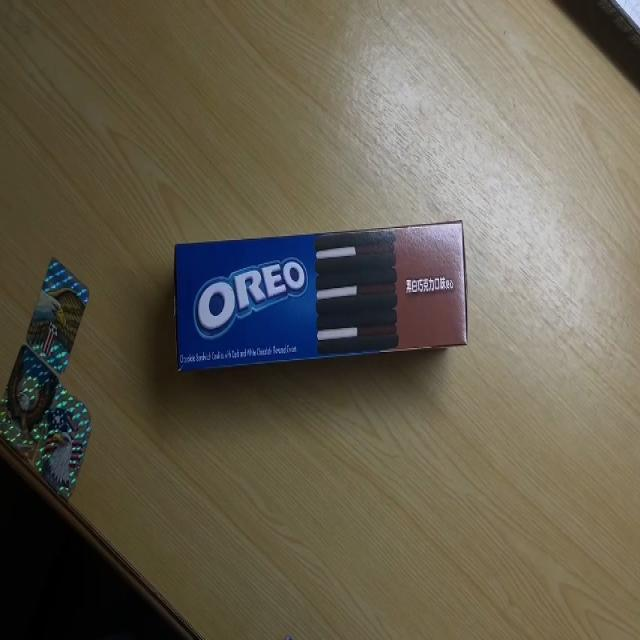Oreo: (173, 218, 468, 372)
